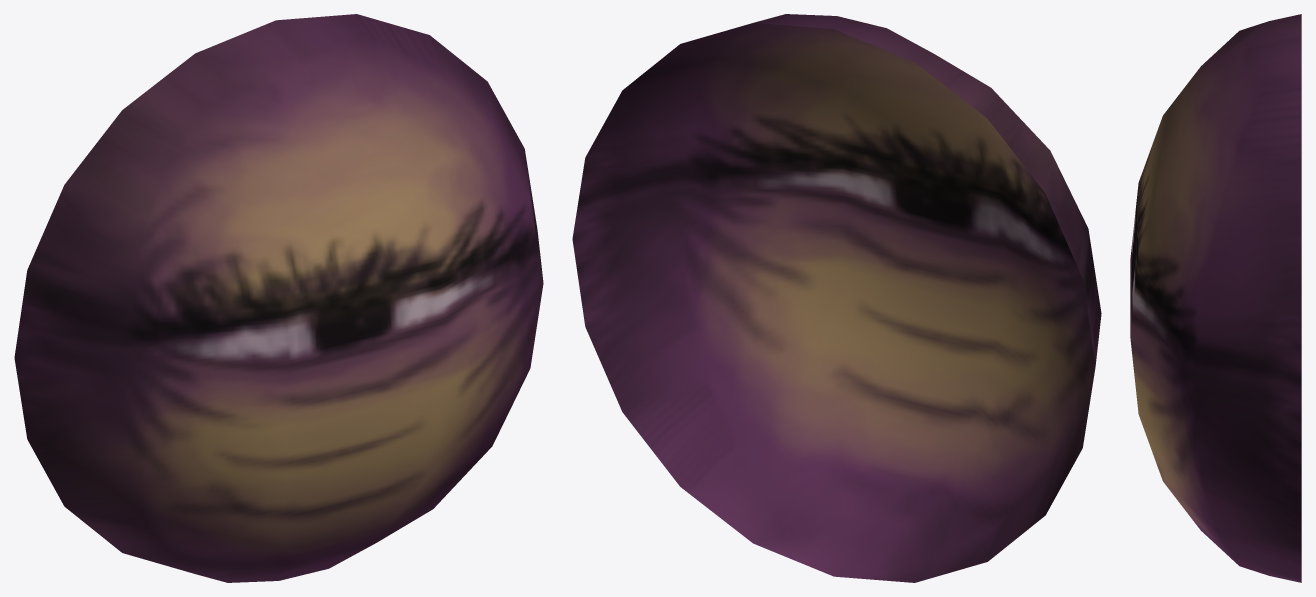
File: walleye.fbx
The picture shows the model from 3 angles, left to right: view 1: azimuth 30°, elevation 25°; view 2: azimuth 150°, elevation 25°; view 3: azimuth 270°, elevation 25°; orthographic projection. The views are drawn at different scales.
Parts seen in each view (by area): view 1: polySurface1; view 2: polySurface1; view 3: polySurface1.
Boxes of the visible parts, x1,y1,x2,y2 form: polySurface1: (14, 14, 543, 582); polySurface1: (572, 14, 1101, 582); polySurface1: (1130, 14, 1301, 582).
Bounding box in the file's own units: 2.87 × 2.87 × 0.8588.
